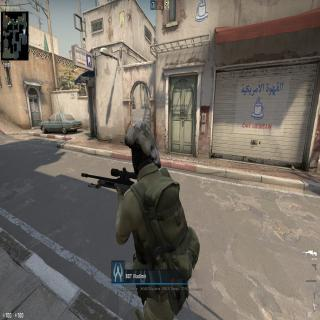CT-Head: (124, 118, 163, 176)
